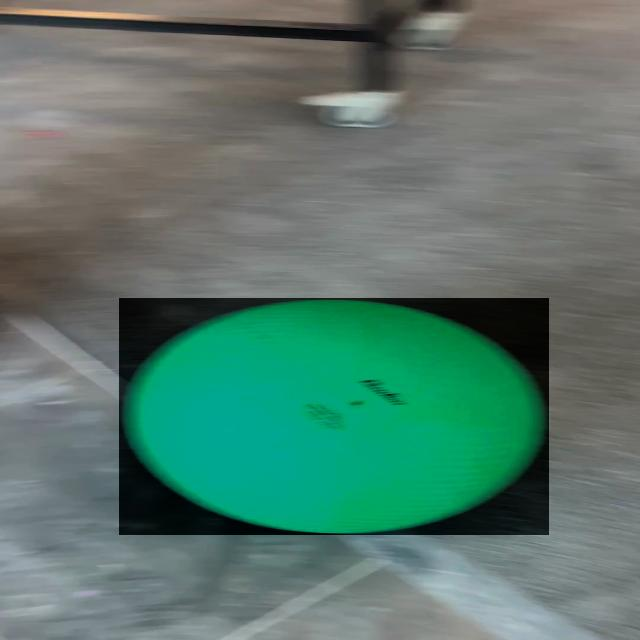Algae: (119, 298, 549, 535)
